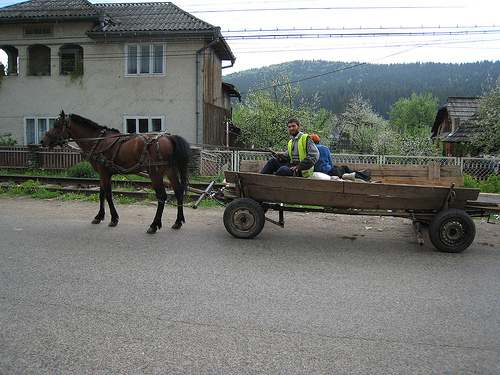horse: (40, 110, 190, 236)
